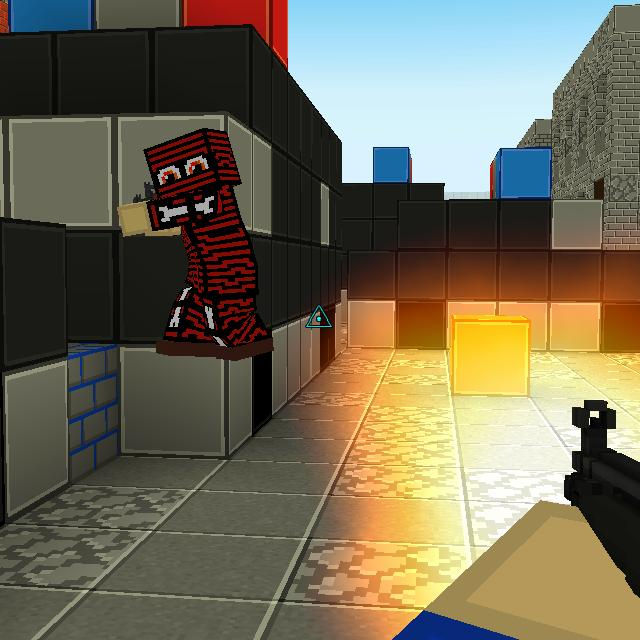enemy: (115, 124, 279, 360)
